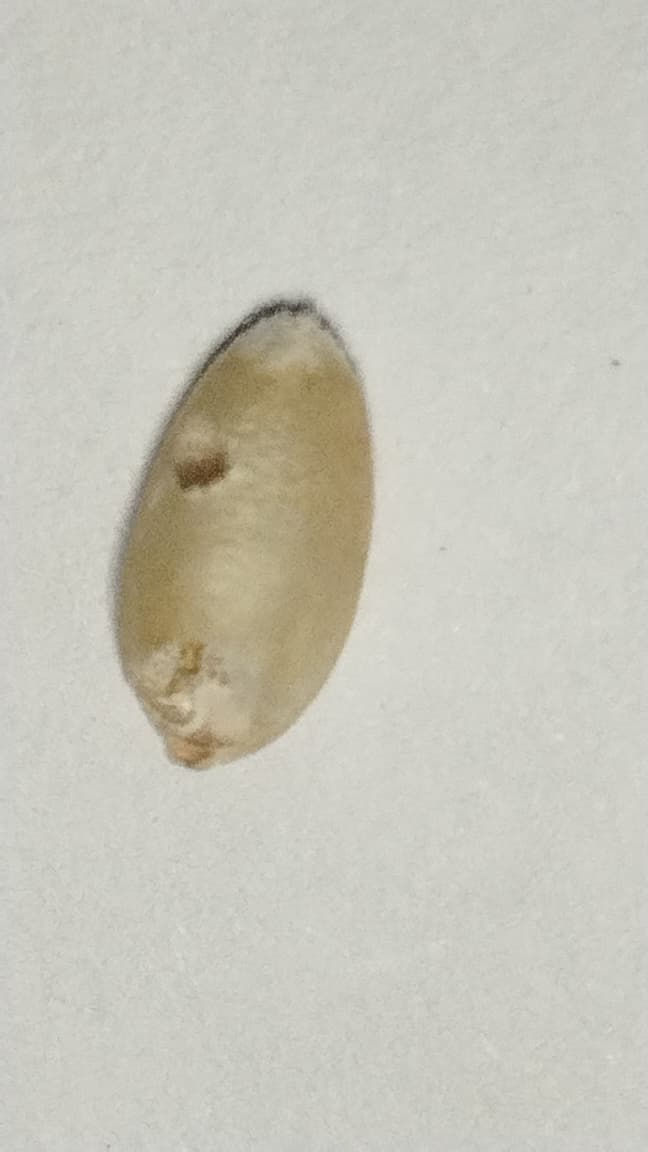damage: (108, 296, 375, 767)
insectdamage: (139, 404, 241, 525)
